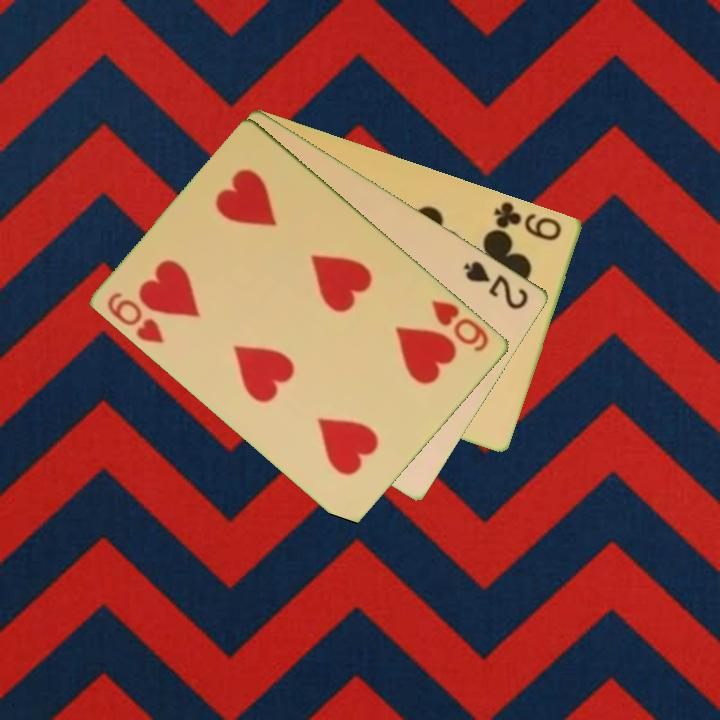2s: (460, 257, 532, 313)
6h: (428, 296, 493, 355), (104, 288, 168, 347)
9c: (491, 197, 565, 244)
